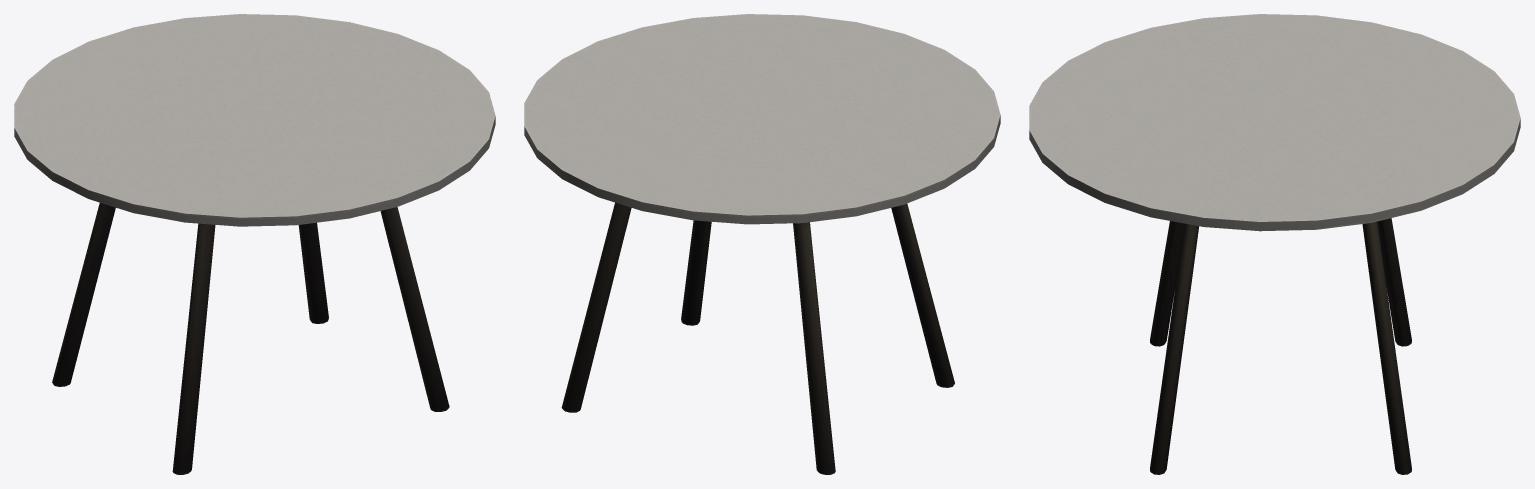
Rendered from SM_Round_Table_Small.FBX.
3 renders of one model, left to right at view 1: azimuth 30°, elevation 25°; view 2: azimuth 150°, elevation 25°; view 3: azimuth 270°, elevation 25°, orthographic. The views are drawn at different scales.
Visible parts, largest first — view 1: SM_Round_Table_Small; view 2: SM_Round_Table_Small; view 3: SM_Round_Table_Small.
Boxes of the visible parts, bbox=[...] form: SM_Round_Table_Small: bbox=[14, 14, 495, 474]; SM_Round_Table_Small: bbox=[524, 14, 1000, 474]; SM_Round_Table_Small: bbox=[1029, 14, 1520, 474].
Size of the model in its own units: 96.26 by 96.09 by 62.31.
